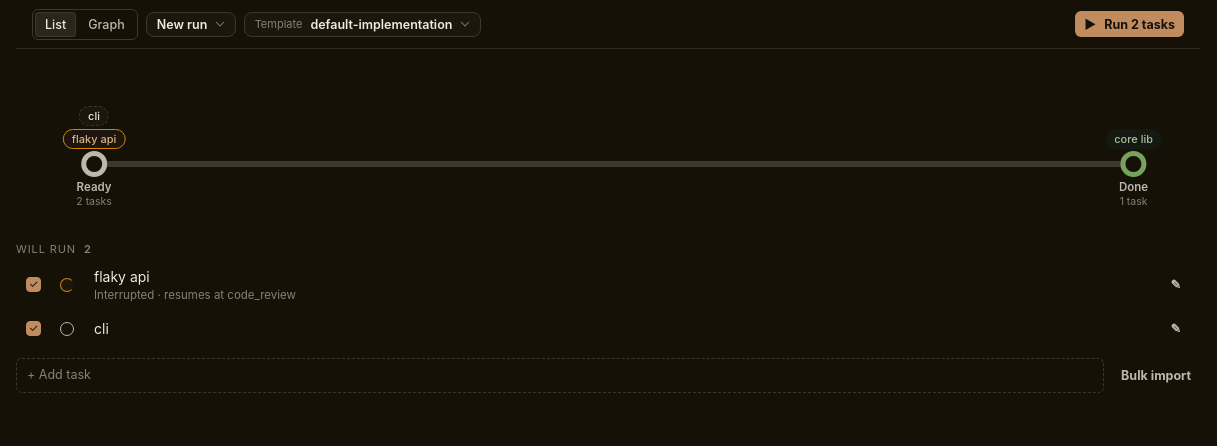
Test case: TasksTab: Interrupted tasks › Plan: an Interrupted task will run, says where it picks up, and is excludable
Expected: the text "Interrupted · resumes at code_review" is shown, [94,288,296,302]
Expected: the button "flaky api" below "Will run" is shown, [94,266,1138,286]
Click the checkbox named "Include flaky api".
click(34, 285)  # box [26,277,41,292]
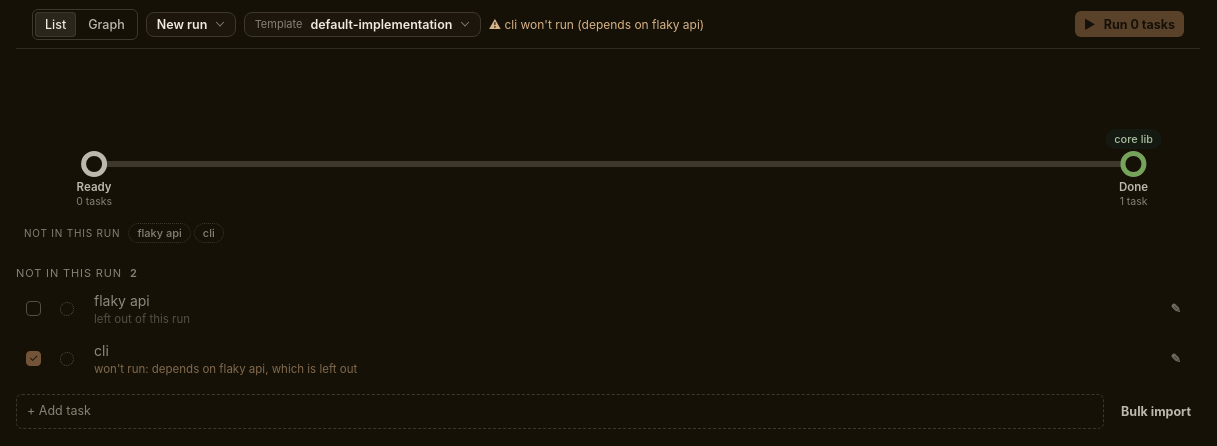
Expected: the button "▶ Run 0 tasks" is shown, [1075,11,1184,37]
Expected: the text "cli won't run (depends on flaky api)" is shown, [504,16,704,32]
